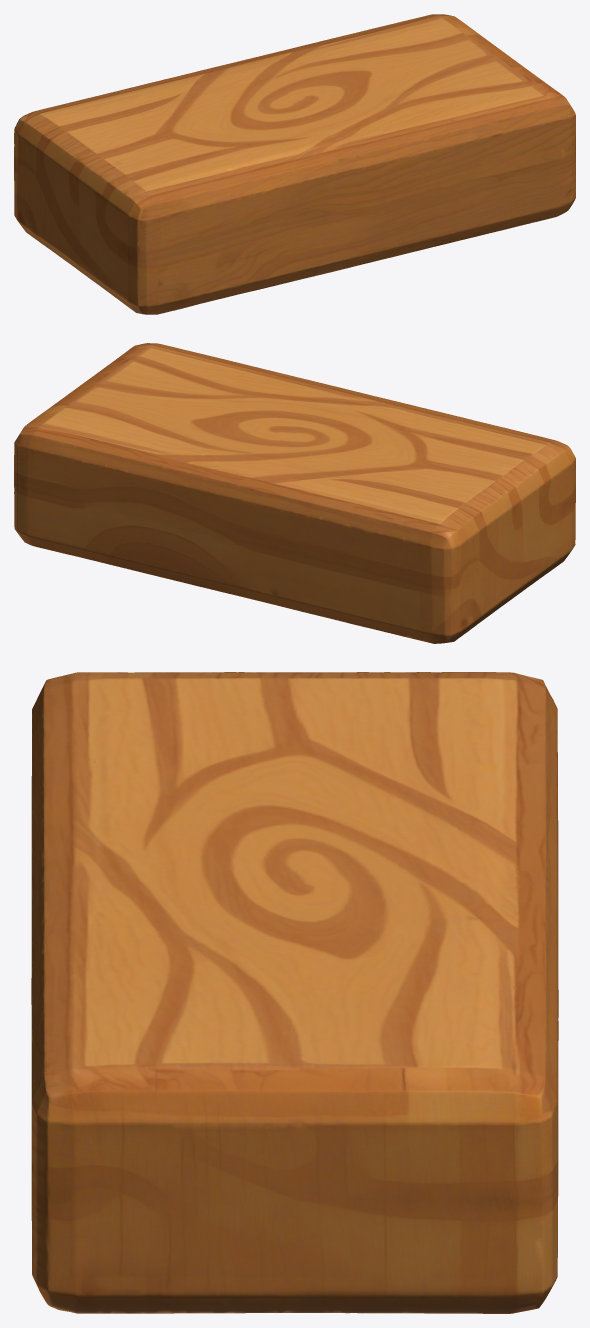
File: woodplank.glb
The picture shows the model from 3 angles, top to bottom: view 1: azimuth 30°, elevation 25°; view 2: azimuth 150°, elevation 25°; view 3: azimuth 270°, elevation 25°; orthographic projection. The views are drawn at different scales.
Size of the model in its own units: 2 by 0.5219 by 1.03.
Materials: 1 (1 with a texture image).
